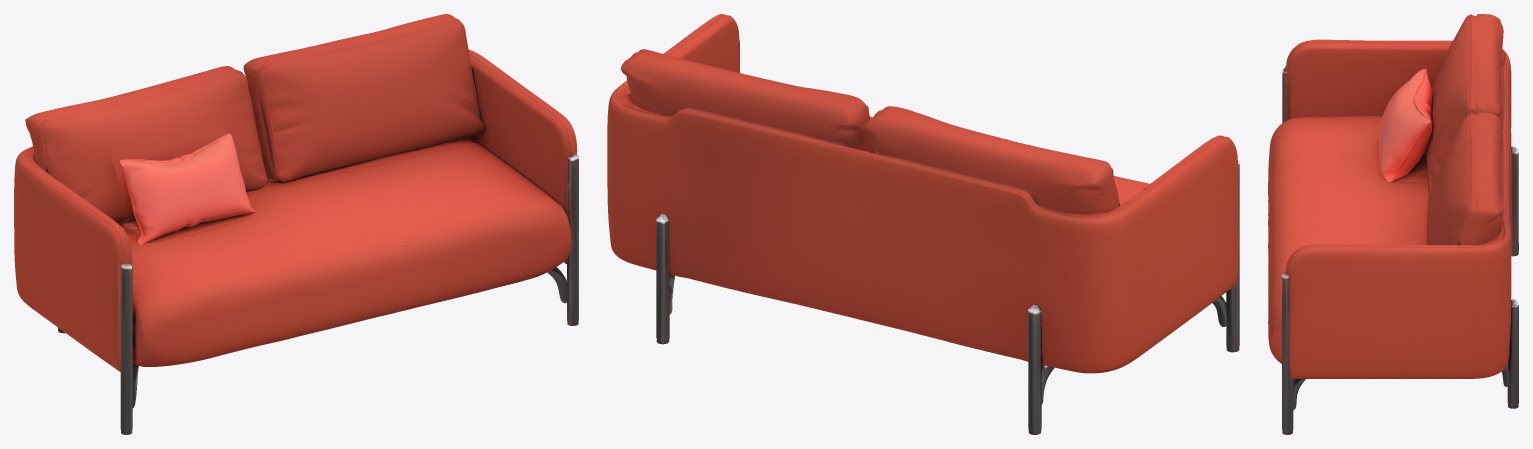
File: jannissofa.glb
The picture shows the model from 3 angles, left to right: view 1: azimuth 30°, elevation 25°; view 2: azimuth 150°, elevation 25°; view 3: azimuth 270°, elevation 25°; orthographic projection. The views are drawn at different scales.
Visible parts, largest first — view 1: model; view 2: model; view 3: model.
Boxes of the visible parts, x1,y1,x2,y2 form: model: (14, 14, 578, 434); model: (607, 14, 1239, 434); model: (1268, 14, 1518, 434).
Bounding box in the file's own units: 1.68 × 0.82 × 0.8309.
Materials: 1 (1 with a texture image).
